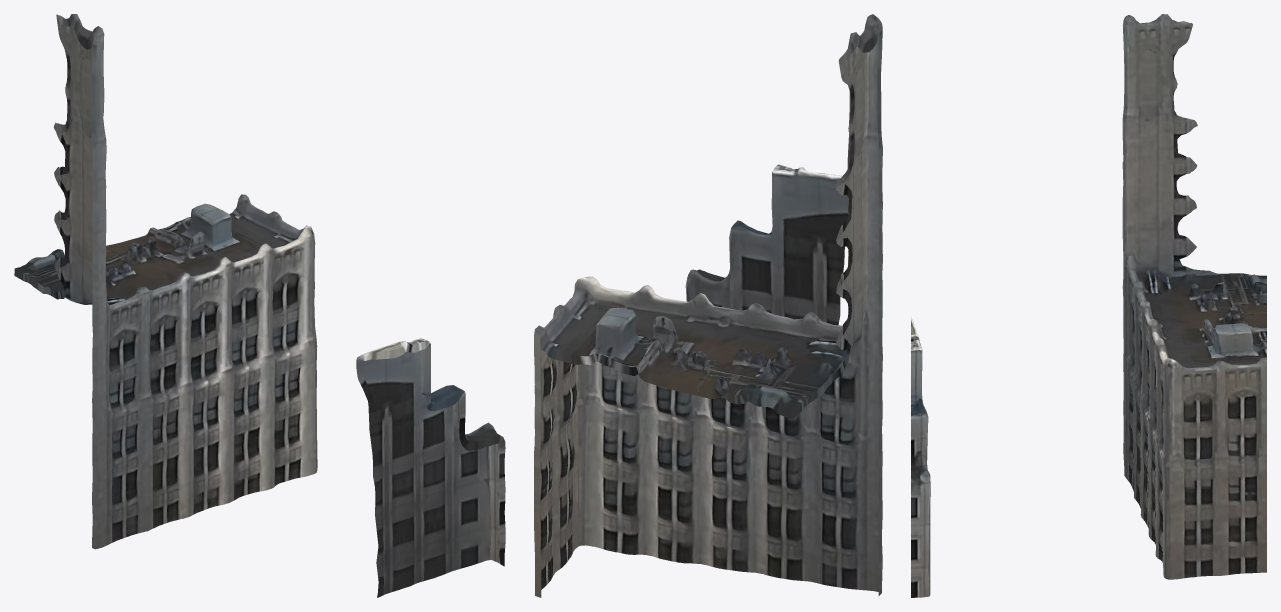
File: z20-167764-405234-h1-yup-uvflip-v3-world.glb
3 renders of one model, left to right at view 1: azimuth 30°, elevation 25°; view 2: azimuth 150°, elevation 25°; view 3: azimuth 270°, elevation 25°, orthographic. The views are drawn at different scales.
Size of the model in its own units: 25.36 by 43.36 by 30.32.
1 material, 1 textured.
